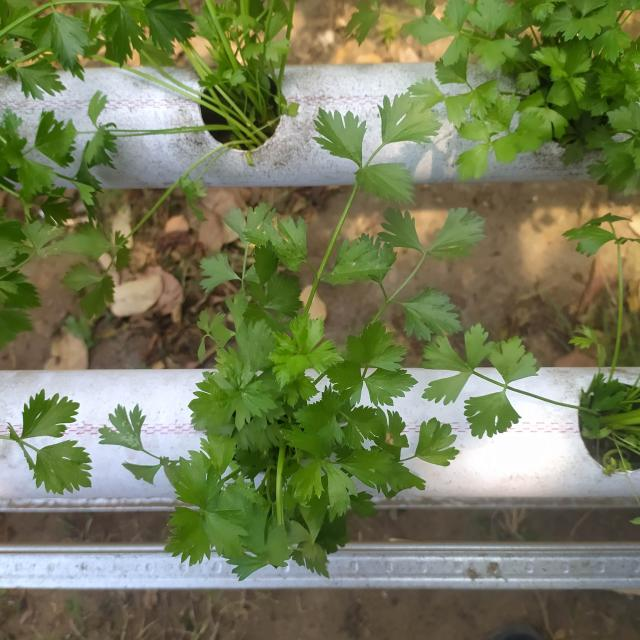Wet Waste: (208, 167, 573, 488), (1, 335, 160, 636), (2, 2, 200, 226)
